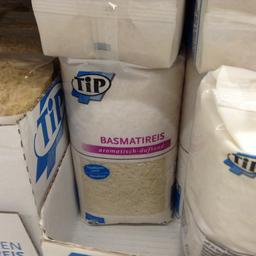rice: (58, 57, 184, 224)
